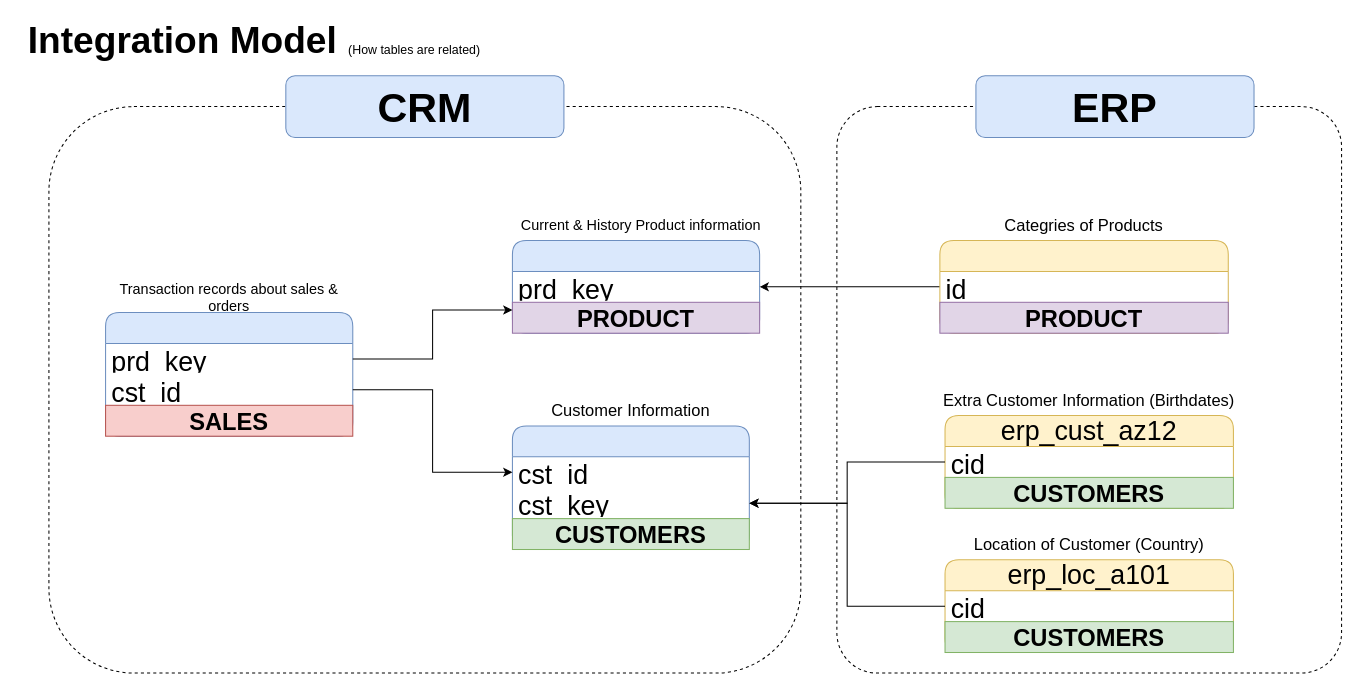
This 1360x691 diagram has some shape labels left out. Each missing label, with the box of its shape:
crm_cust_info: (511, 425, 749, 550)
crm_prd_info: (511, 239, 760, 333)
crm_sales_details: (105, 312, 353, 436)
erp_px_cat_g1v2: (939, 239, 1228, 333)
